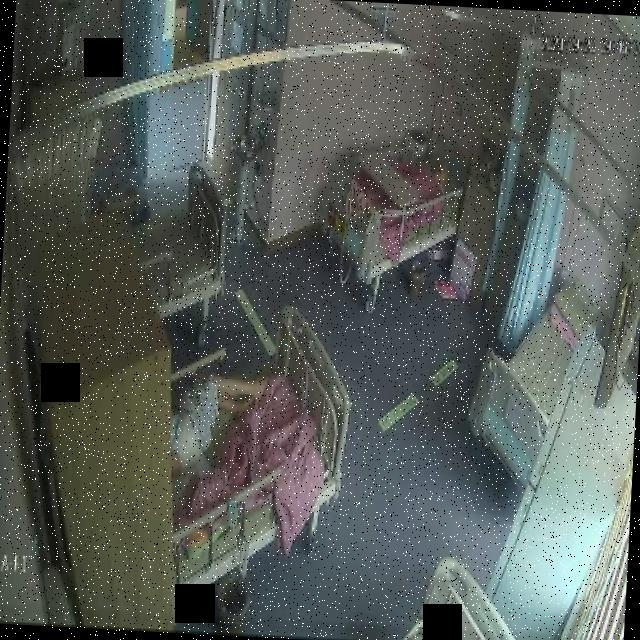bed: (161, 302, 356, 576), (304, 114, 468, 311), (464, 286, 592, 495), (125, 158, 232, 323)
lie: (164, 366, 268, 476)
patient: (166, 366, 269, 477)
